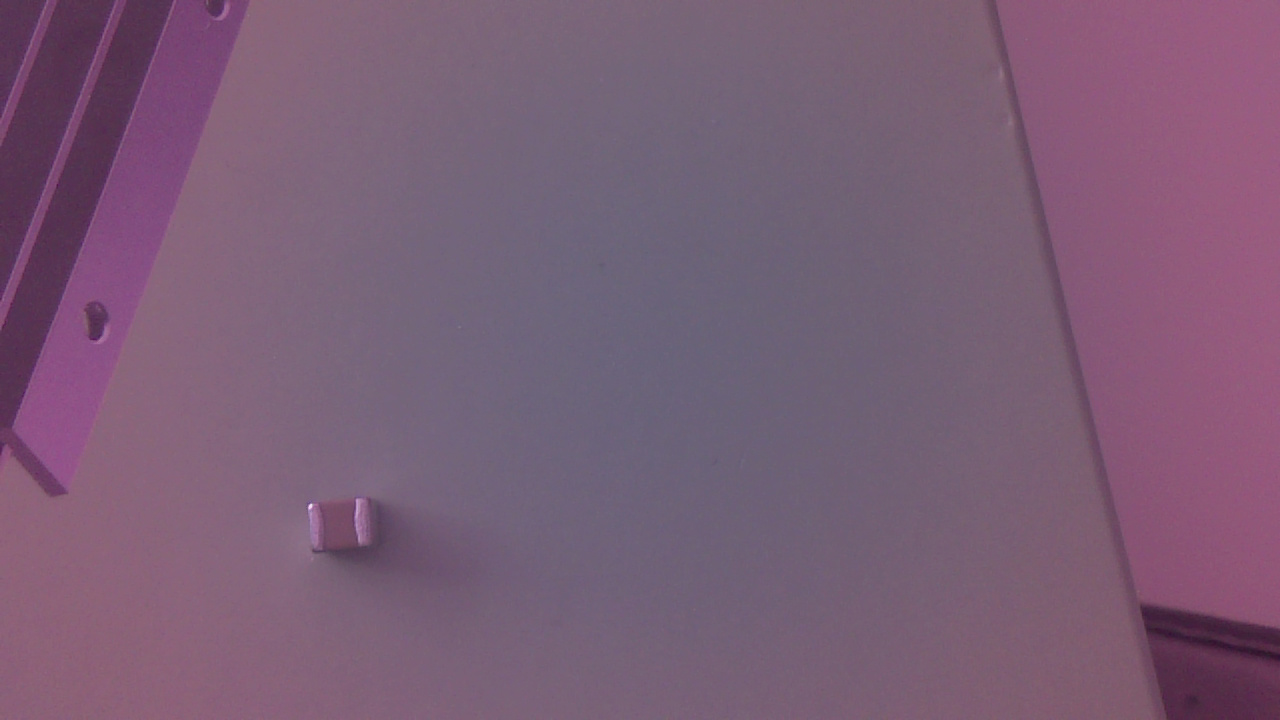Condensator: (309, 497, 384, 567)
